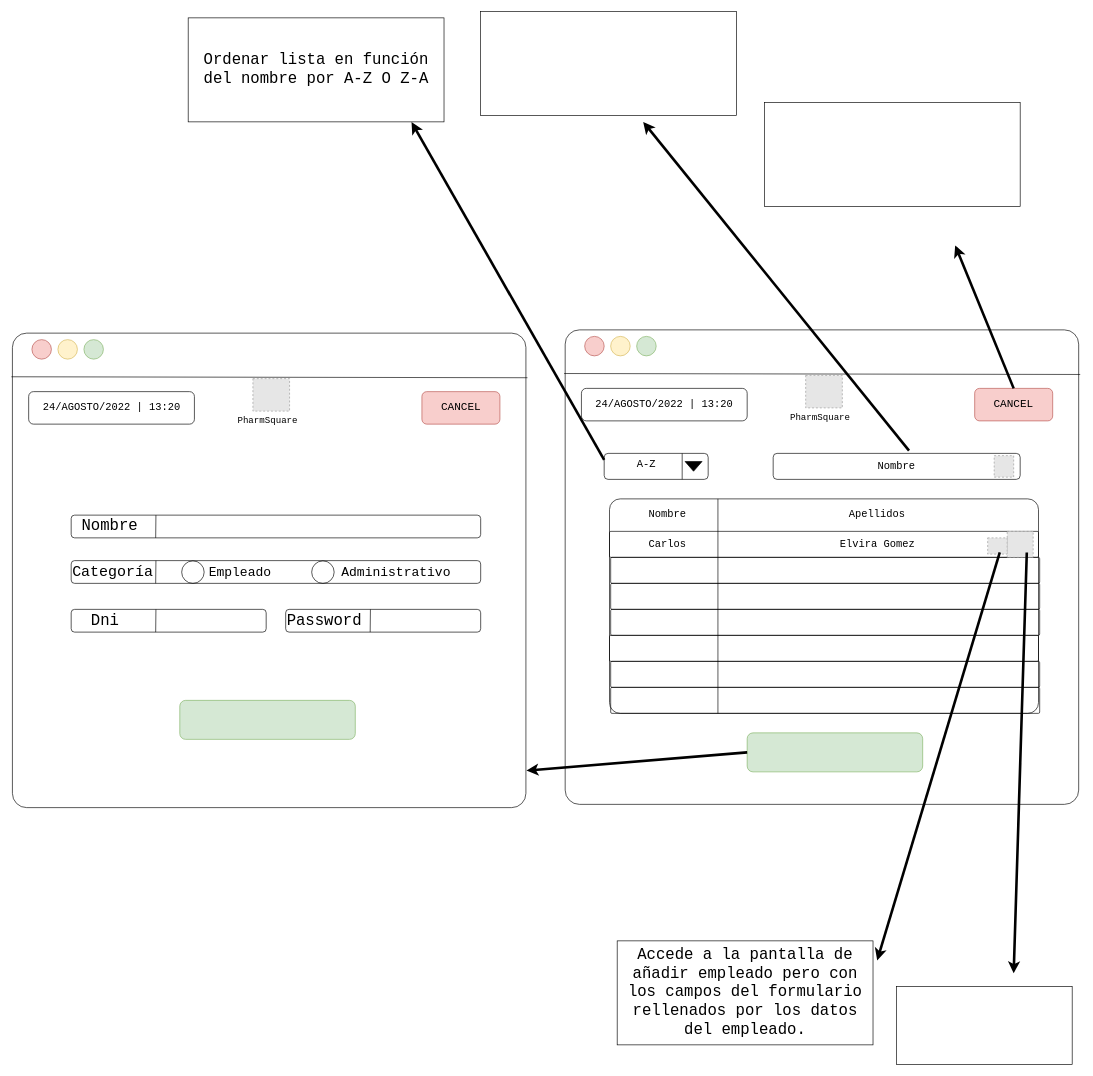
The diagram is 1093 pixels wide and 1076 high, and some of its shapes have lost their labels. Grey dashed boxes stand in for pictures. Each missing label, with the centre of its shape:
Añadir nuevo empleado: (x=835, y=752)
Buscar empleado por nombre introducido: (x=608, y=63)
CONFIRMAR: (x=267, y=719)
Devuelve a la sección de administración: (x=892, y=154)
Elimina el empleado: (x=984, y=1025)
